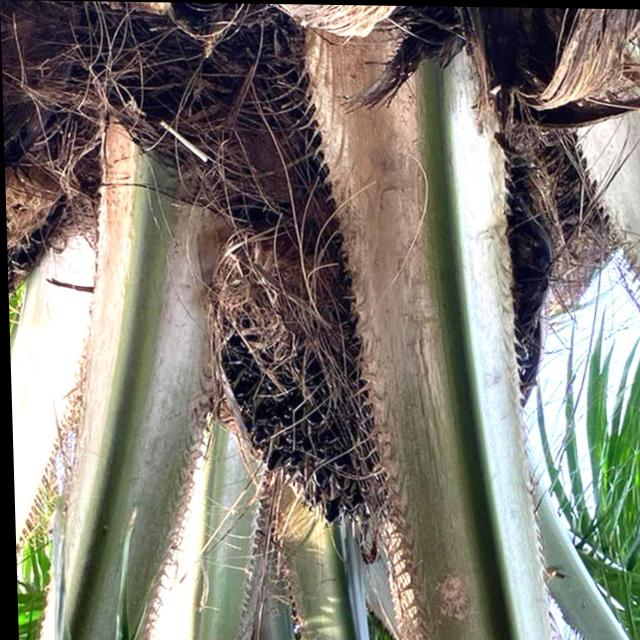unripe: (215, 234, 376, 544)
